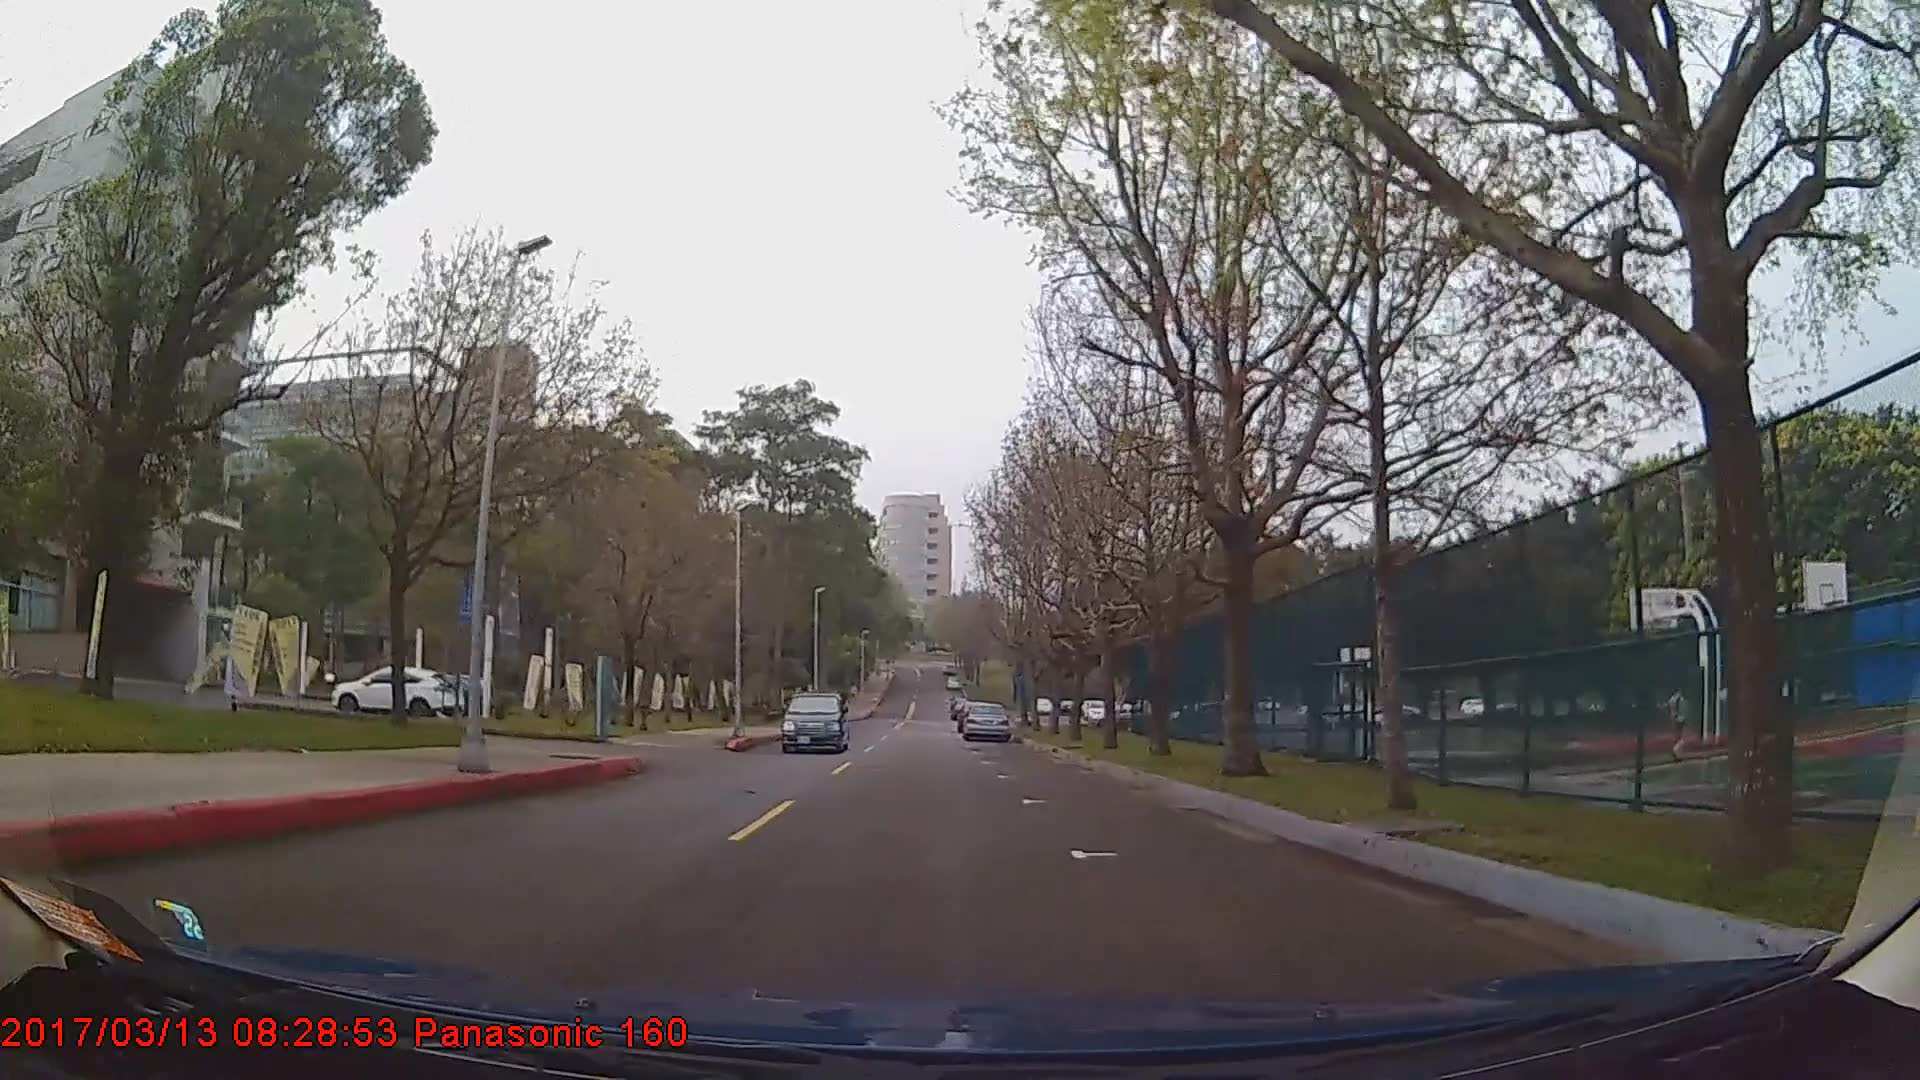vehicle: (331, 662, 459, 719), (777, 691, 847, 753), (961, 700, 1009, 742)
